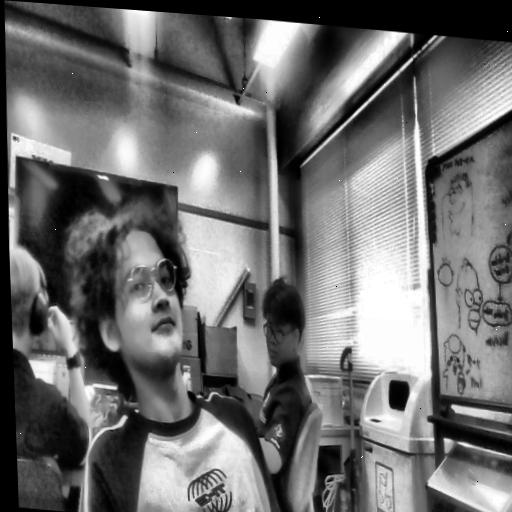Daifuku: (69, 189, 198, 372)
Not Daifuku: (262, 283, 306, 373), (9, 254, 45, 358)
